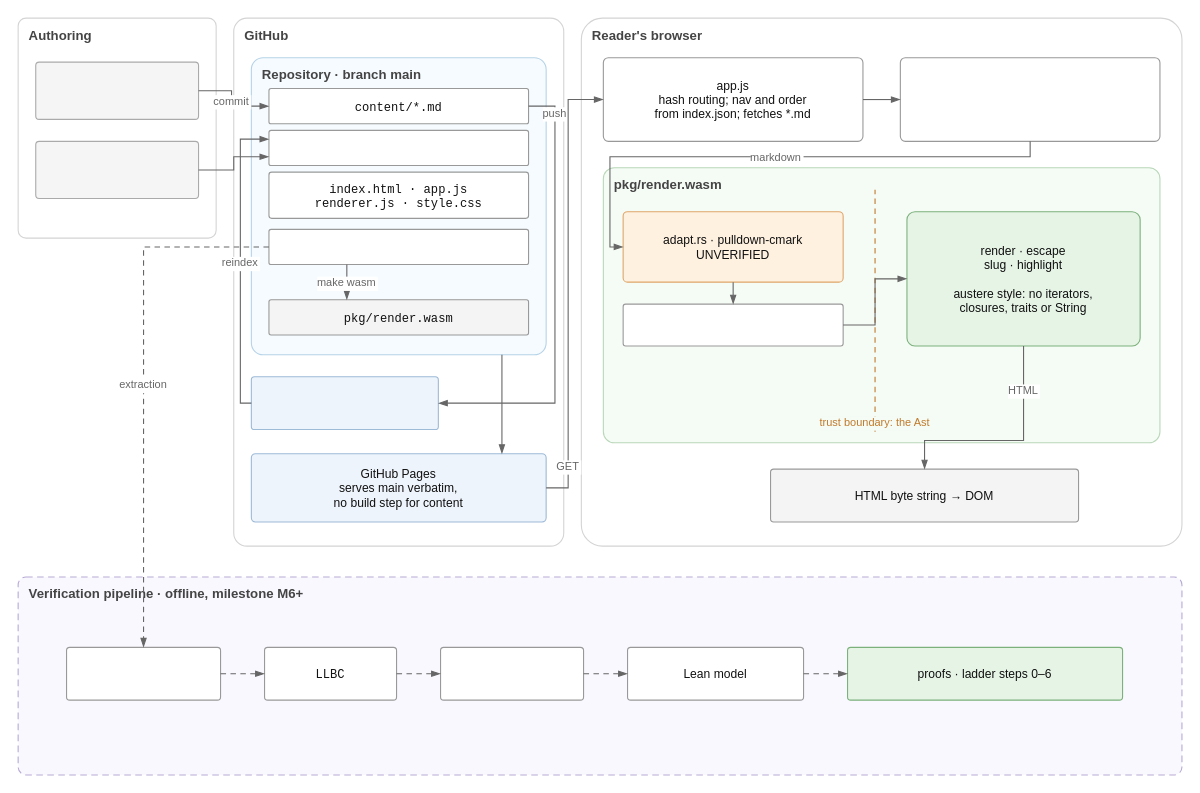
Some shapes in this 1200 by 793 pixel diagram are drawn without their labels. The centre of each missing label's shape, as x and y in pixels:
"aeneas" goes at point (511, 673).
"Ast" goes at point (732, 324).
"charon" goes at point (143, 673).
"ci.yml reindex on push" goes at point (344, 403).
"content/index.json" goes at point (398, 147).
"GitHub web editor" goes at point (117, 90).
"make publish (local)" goes at point (117, 169).
"renderer.js instantiates the module, four exports, no bindgen" goes at point (1029, 99).
"verified/*.rs" goes at point (398, 246).
